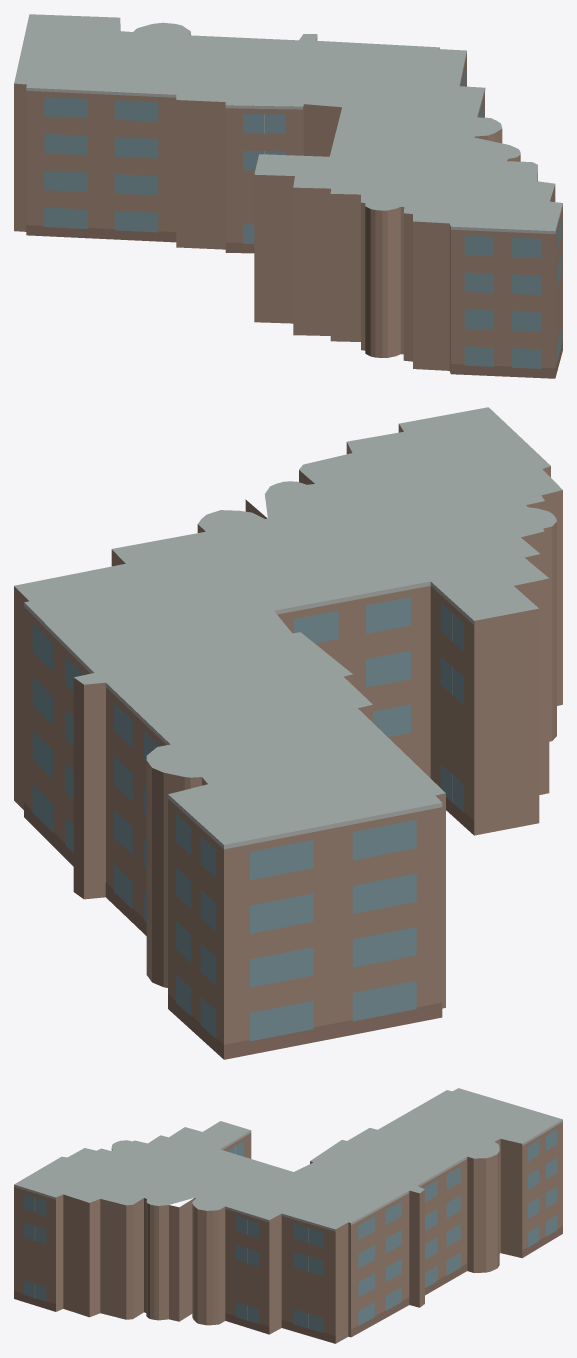
The model's file is survey-upis-32655448.glb.
3 views of the same model, one above another, from view 1: azimuth 30°, elevation 25°; view 2: azimuth 150°, elevation 25°; view 3: azimuth 270°, elevation 25° (orthographic). The views are drawn at different scales.
Parts seen in each view (by area): view 1: survey-upis-32655448.tmp; view 2: survey-upis-32655448.tmp; view 3: survey-upis-32655448.tmp.
Part boxes in pixels (box(x1,y1,x2,y2)): survey-upis-32655448.tmp: box(14, 14, 562, 378); survey-upis-32655448.tmp: box(14, 407, 562, 1059); survey-upis-32655448.tmp: box(14, 1088, 562, 1343).
Bounding box in the file's own units: 32.34 × 12.2 × 53.05.
